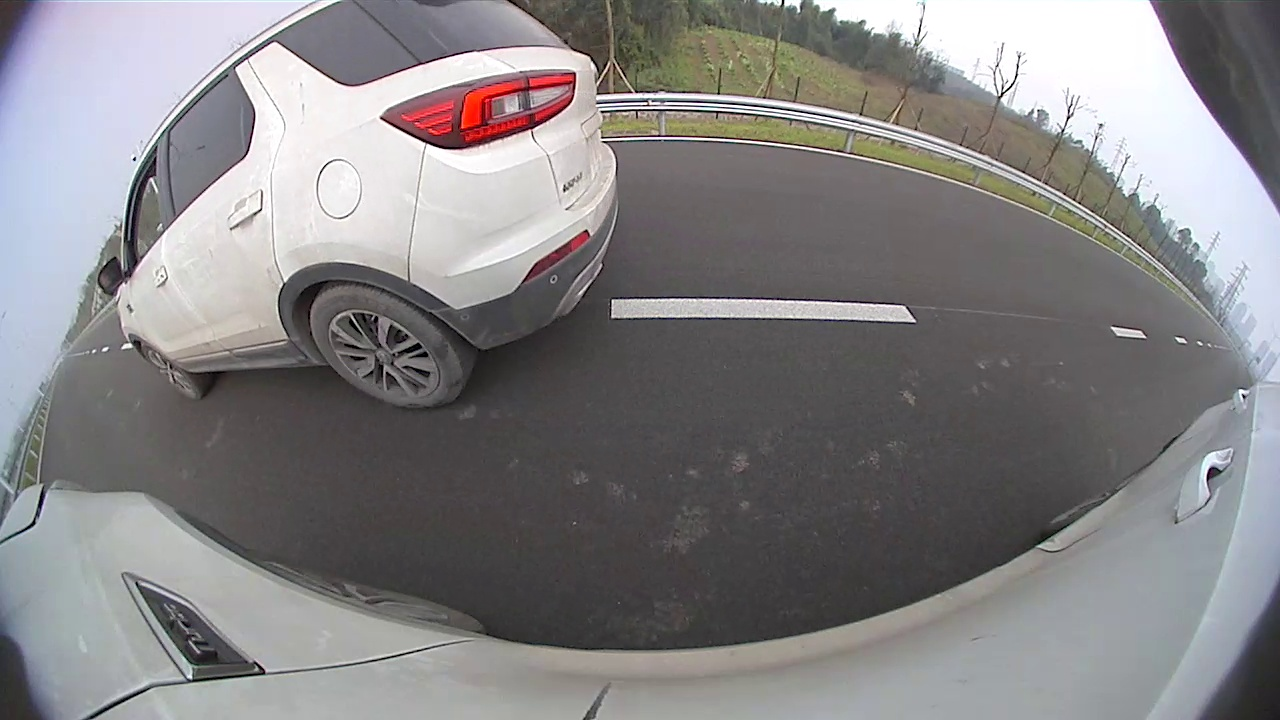car: (98, 1, 618, 410)
front: (144, 345, 200, 406)
rear: (313, 287, 466, 408)
